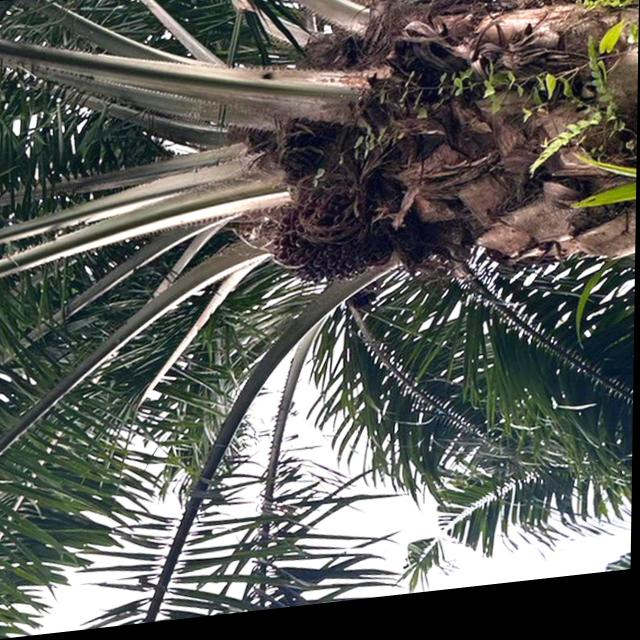ripe: (263, 185, 390, 299)
